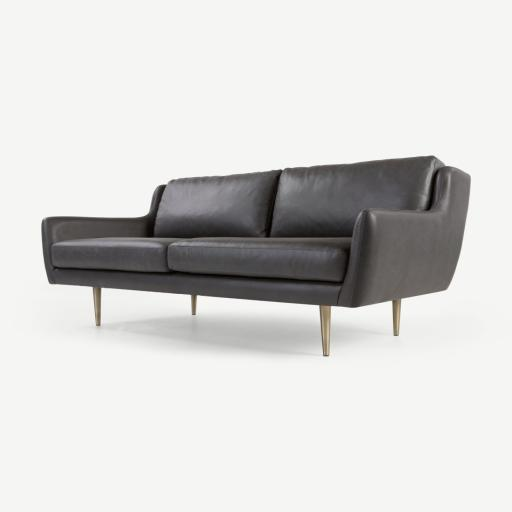back_cushion: (155, 157, 438, 237)
base: (56, 270, 341, 306)
left_arm: (338, 167, 470, 307)
legs: (320, 306, 330, 356), (93, 287, 101, 326), (393, 299, 400, 335), (191, 295, 196, 314)
right_arm: (42, 185, 162, 283)
seat_cushion: (51, 237, 351, 282)
two-seater: (0, 0, 511, 512)
